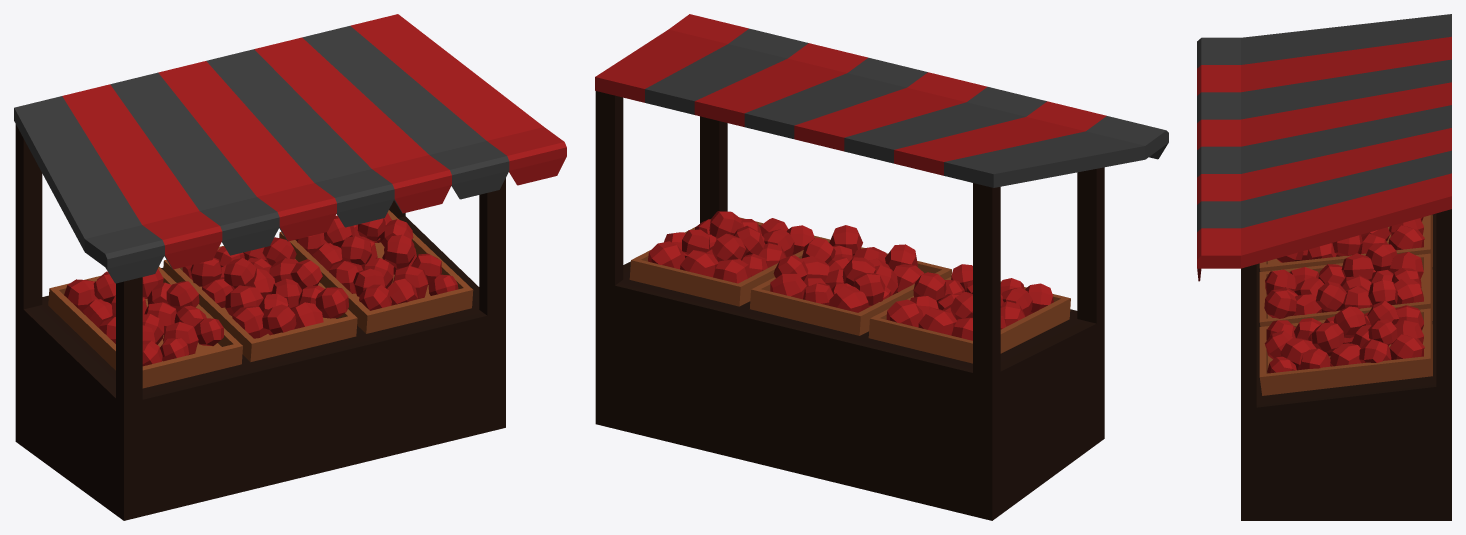
Rendered from AppleStandFull_FBX.fbx.
The picture shows the model from 3 angles, left to right: view 1: azimuth 30°, elevation 25°; view 2: azimuth 150°, elevation 25°; view 3: azimuth 270°, elevation 25°; orthographic projection. The views are drawn at different scales.
Parts seen in each view (by area): view 1: AppleStand_Fabric, AppleStand_Base, AppleStand_Box001, AppleStand_Box003, AppleStand_Box002, Apple_078, Apple_058, Apple_077, Apple_074, Apple_068, Apple_075, Apple_052 (+9 smaller); view 2: AppleStand_Base, AppleStand_Fabric, AppleStand_Box001, AppleStand_Box002, AppleStand_Box003, Apple_059, Apple_026, Apple_044, Apple_046, Apple_032, Apple_025, Apple_043 (+4 smaller); view 3: AppleStand_Fabric, AppleStand_Base, AppleStand_Box003, AppleStand_Box002, AppleStand_Box001, Apple_078, Apple_058, Apple_071, Apple_052, Apple_044, Apple_026, Apple_074 (+26 smaller).
Part boxes in pixels (x1=…): AppleStand_Fabric: x1=14, y1=14, x2=566, y2=283; AppleStand_Base: x1=15, y1=124, x2=505, y2=520; AppleStand_Box001: x1=48, y1=266, x2=242, y2=388; AppleStand_Box003: x1=279, y1=210, x2=473, y2=333; AppleStand_Box002: x1=163, y1=246, x2=357, y2=362; Apple_078: x1=315, y1=287, x2=348, y2=318; Apple_058: x1=384, y1=234, x2=415, y2=268; Apple_077: x1=262, y1=304, x2=296, y2=335; Apple_074: x1=224, y1=258, x2=256, y2=289; Apple_068: x1=225, y1=285, x2=263, y2=316; Apple_075: x1=232, y1=306, x2=267, y2=338; Apple_052: x1=341, y1=235, x2=371, y2=265; AppleStand_Base: x1=595, y1=91, x2=1104, y2=520; AppleStand_Fabric: x1=595, y1=14, x2=1168, y2=187; AppleStand_Box001: x1=868, y1=277, x2=1070, y2=363; AppleStand_Box002: x1=750, y1=247, x2=951, y2=335; AppleStand_Box003: x1=629, y1=217, x2=830, y2=306; Apple_059: x1=829, y1=286, x2=868, y2=312; Apple_026: x1=886, y1=299, x2=923, y2=327; Apple_044: x1=648, y1=241, x2=685, y2=269; Apple_046: x1=712, y1=233, x2=746, y2=262; Apple_032: x1=913, y1=272, x2=946, y2=303; Apple_025: x1=918, y1=308, x2=956, y2=335; Apple_043: x1=680, y1=250, x2=718, y2=277; AppleStand_Fabric: x1=1197, y1=14, x2=1451, y2=281; AppleStand_Base: x1=1241, y1=209, x2=1451, y2=520; AppleStand_Box003: x1=1259, y1=308, x2=1432, y2=395; AppleStand_Box002: x1=1259, y1=253, x2=1432, y2=326; AppleStand_Box001: x1=1259, y1=214, x2=1432, y2=271; Apple_078: x1=1264, y1=289, x2=1296, y2=318; Apple_058: x1=1311, y1=322, x2=1344, y2=352; Apple_071: x1=1316, y1=281, x2=1346, y2=311; Apple_052: x1=1333, y1=306, x2=1365, y2=338; Apple_044: x1=1389, y1=334, x2=1424, y2=359; Apple_026: x1=1388, y1=225, x2=1424, y2=250; Apple_074: x1=1341, y1=253, x2=1373, y2=279.
Size of the model in its own units: 487 by 338 by 240.
